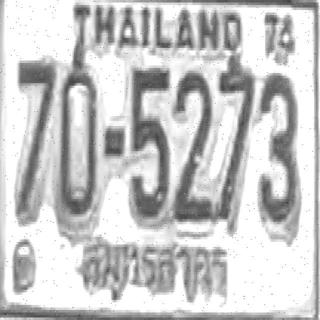N00: (54, 59, 97, 225)
N02: (172, 70, 211, 220)
N03: (255, 71, 300, 237)
N05: (128, 65, 168, 219)
N07: (12, 57, 56, 223), (214, 57, 254, 233)
P58: (72, 233, 233, 309)
